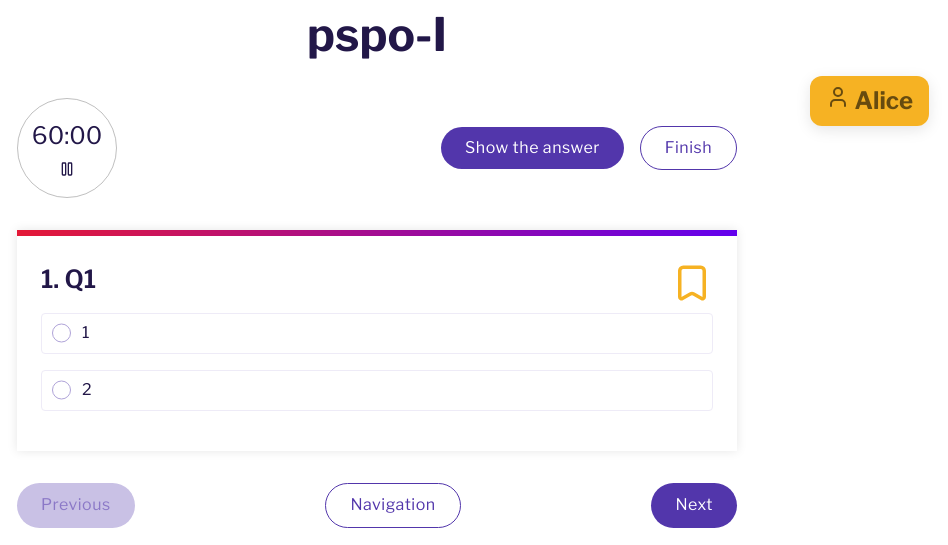
Test: Quizz Component - Coop Mode › updates participant name when jumping to a question
expect the text "Alice" is shown: met, box top-left (826, 84), bottom-right (913, 118)
Click the button "Next".
click(694, 505)  # box top-left (651, 483), bottom-right (737, 528)
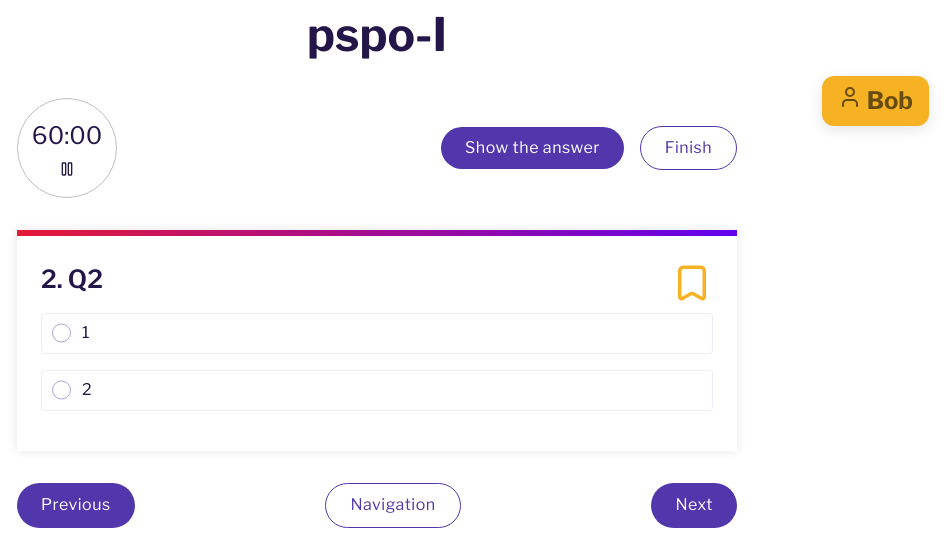
expect the text "Bob" is shown: met, box top-left (838, 84), bottom-right (913, 118)
Click the button "Next".
click(694, 505)  # box top-left (651, 483), bottom-right (737, 528)
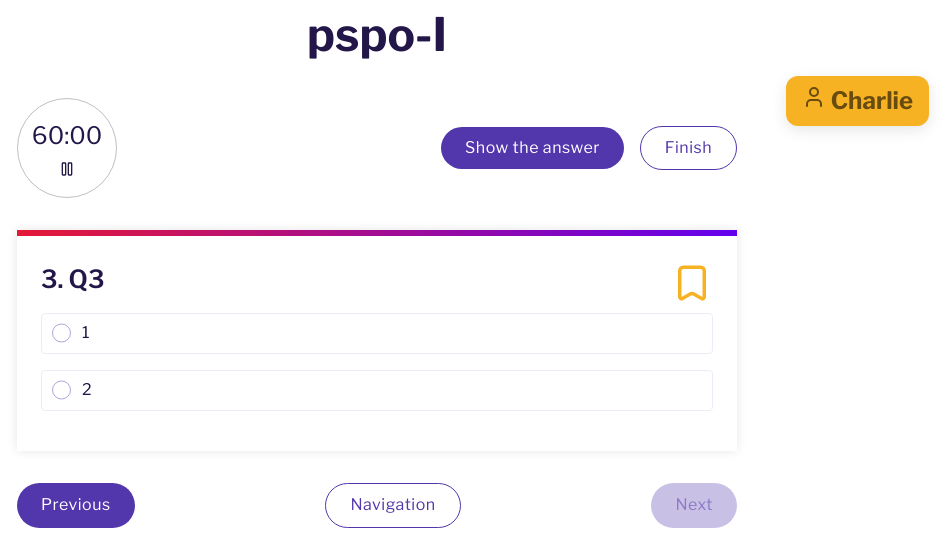
expect the text "Charlie" is shown: met, box top-left (802, 84), bottom-right (913, 118)
